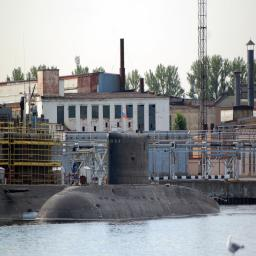submarine: (35, 132, 222, 224)
